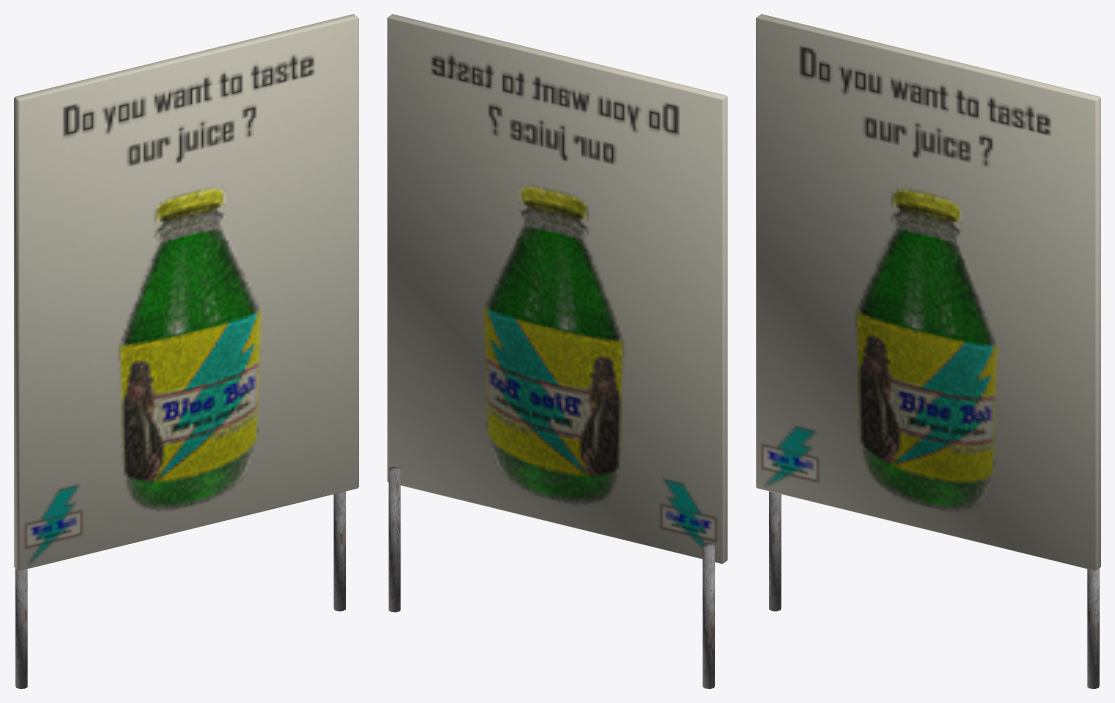
File: Slide.fbx
The picture shows the model from 3 angles, left to right: view 1: azimuth 30°, elevation 25°; view 2: azimuth 150°, elevation 25°; view 3: azimuth 330°, elevation 25°; orthographic projection.
Visible parts, largest first — view 1: Cube.007; view 2: Cube.007; view 3: Cube.007.
Boxes of the visible parts, <box> form: Cube.007: <box>14,14,358,688</box>; Cube.007: <box>387,14,727,688</box>; Cube.007: <box>756,14,1100,688</box>.
Size of the model in its own units: 300 by 500 by 17.93.
